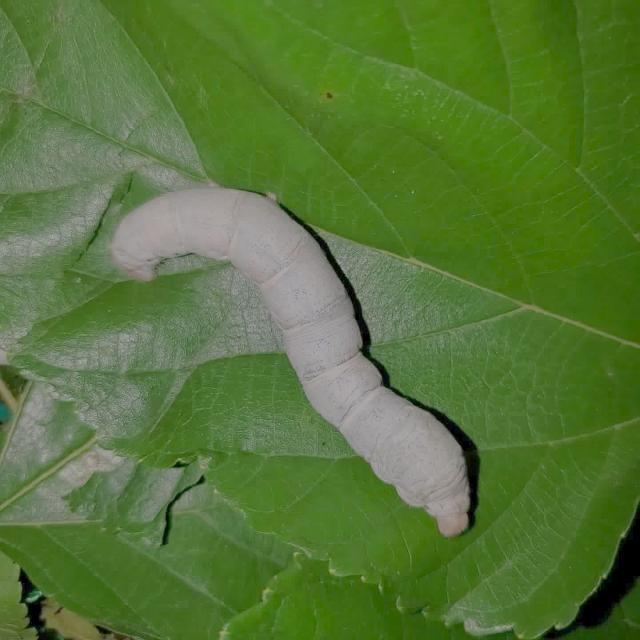Healthy: (80, 160, 503, 564)
